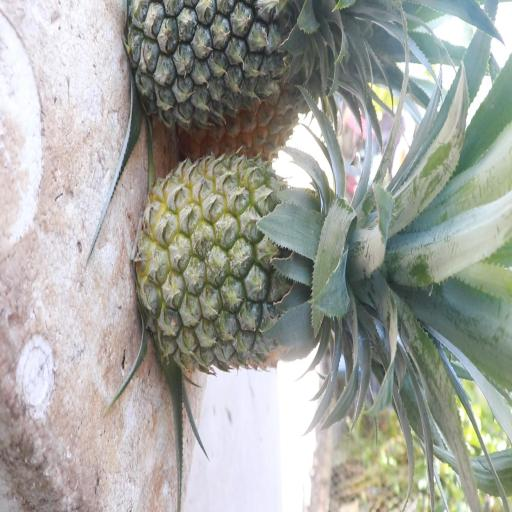------------------------------: (134, 151, 462, 375)
